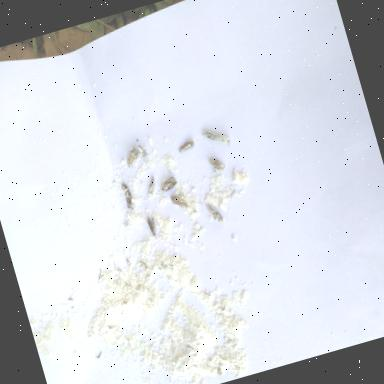pbw: (120, 182, 135, 211), (206, 202, 224, 226), (123, 147, 142, 169), (170, 192, 190, 212), (144, 175, 160, 198), (160, 176, 180, 194), (208, 154, 226, 173), (146, 215, 160, 238), (178, 140, 196, 154)
